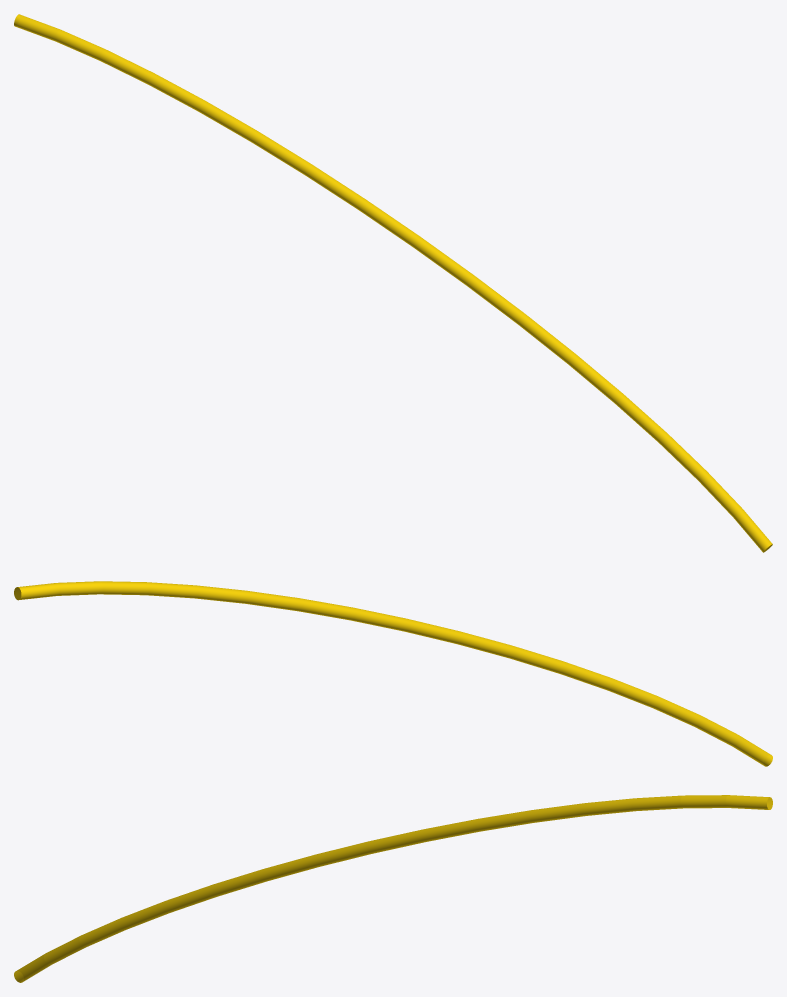
The model's file is Event_420094457_track_15.fbx.
3 views of the same model, one above another, from view 1: azimuth 90°, elevation 25°; view 2: azimuth 150°, elevation 25°; view 3: azimuth 270°, elevation 25° (orthographic).
Visible parts, largest first — view 1: Model; view 2: Model; view 3: Model.
Boxes of the visible parts, bbox=[...] form: Model: bbox=[14, 14, 772, 552]; Model: bbox=[14, 581, 772, 766]; Model: bbox=[14, 795, 772, 982].
Size of the model in its own units: 1.33 by 1.22 by 2.33.
